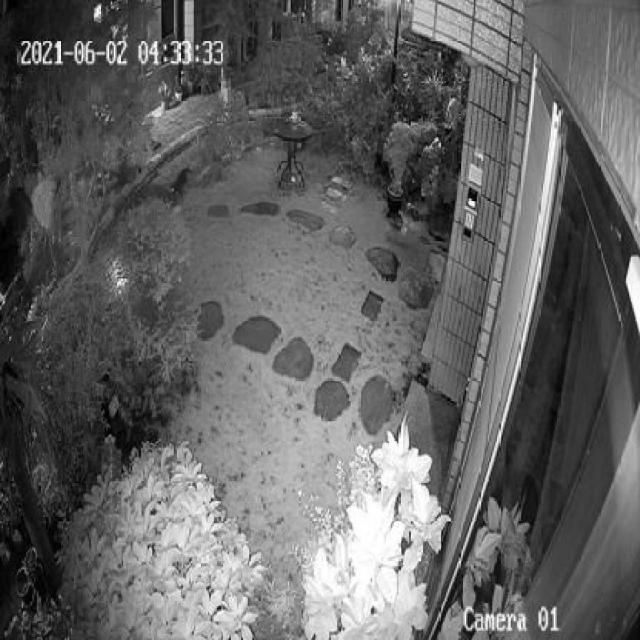animals: (168, 162, 198, 200)
